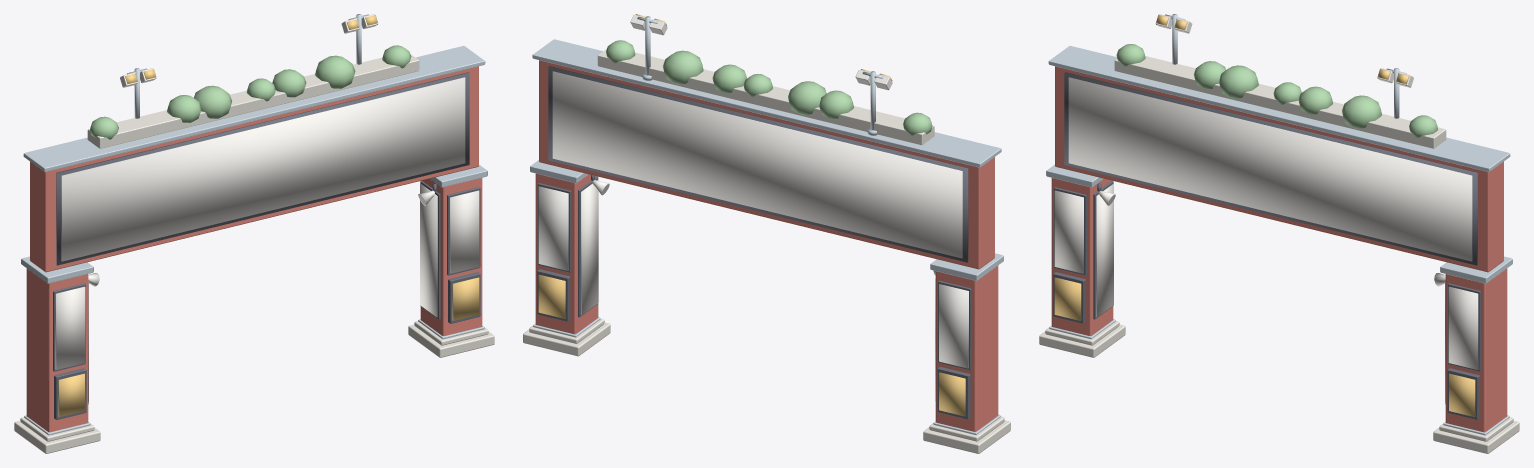
The model's file is ximen-gate.glb.
3 views of the same model, side by side, from view 1: azimuth 30°, elevation 25°; view 2: azimuth 150°, elevation 25°; view 3: azimuth 330°, elevation 25° (orthographic).
Parts seen in each view (by area): view 1: gate; view 2: gate; view 3: gate.
Boxes of the visible parts, x1=… form: gate: x1=14, y1=14, x2=494, y2=453; gate: x1=523, y1=14, x2=1010, y2=453; gate: x1=1039, y1=14, x2=1519, y2=453.
Bounding box in the file's own units: 14.6 × 10.6 × 1.8.
